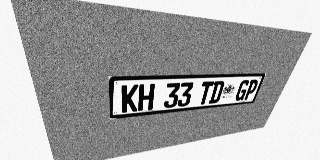3: (163, 83, 181, 108), (177, 82, 194, 107)
D: (208, 81, 225, 104)
G: (234, 80, 251, 101)
H: (138, 84, 155, 111)
K: (121, 84, 139, 113)
P: (243, 79, 259, 100)
T: (197, 81, 214, 105)
